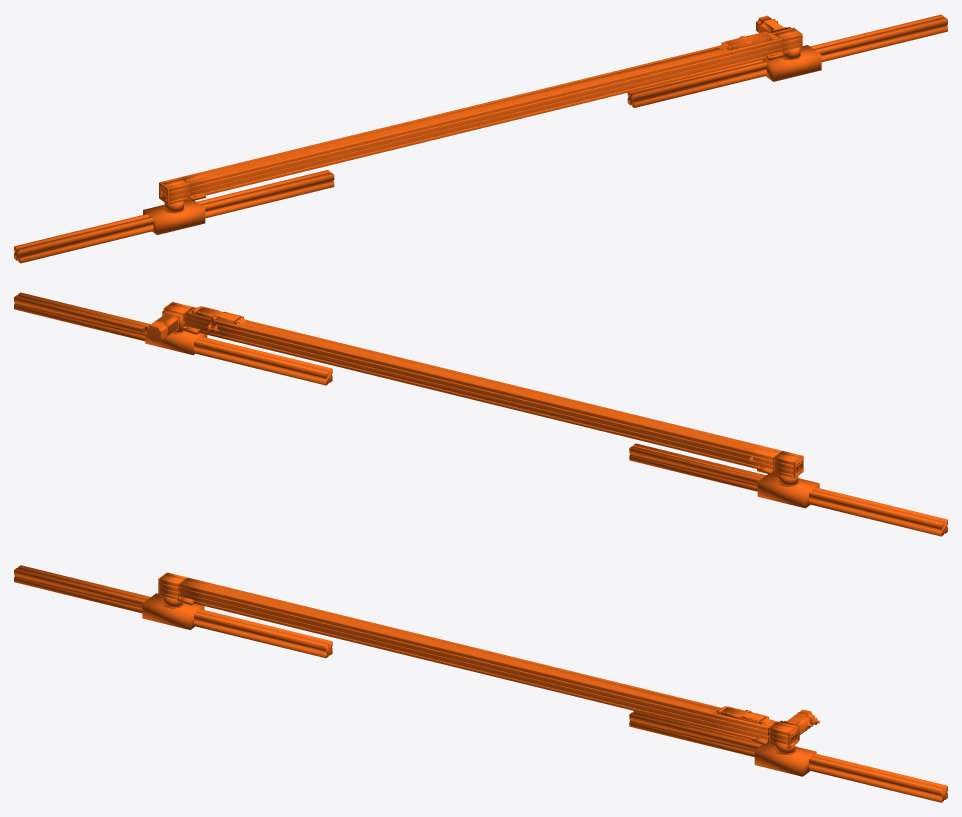
The model's file is 移栽机-平移杆.obj.
3 views of the same model, one above another, from view 1: azimuth 30°, elevation 25°; view 2: azimuth 150°, elevation 25°; view 3: azimuth 330°, elevation 25° (orthographic).
Size of the model in its own units: 3855 by 178 by 229.
